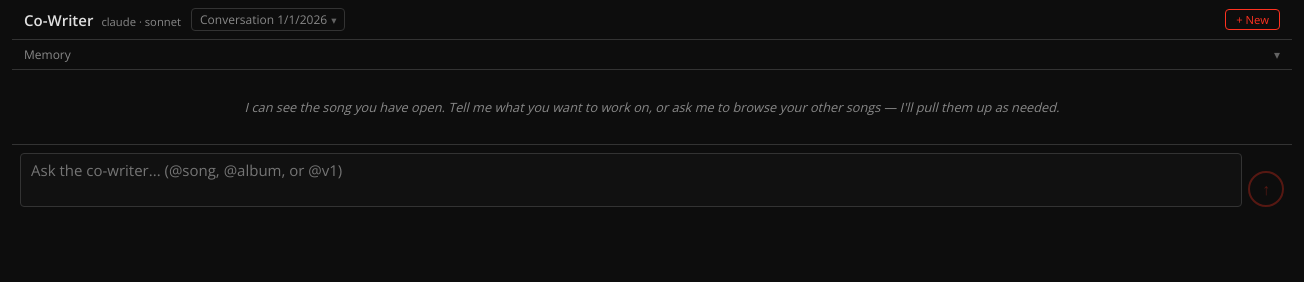
CoWriterPanel proposal target (#238) › shows the same target without the foreign warning styling when the proposal targets the open song
Type "darken it" into the text box with class "chat-input".
click(631, 180); type("darken it")  # box [20,153,1242,207]
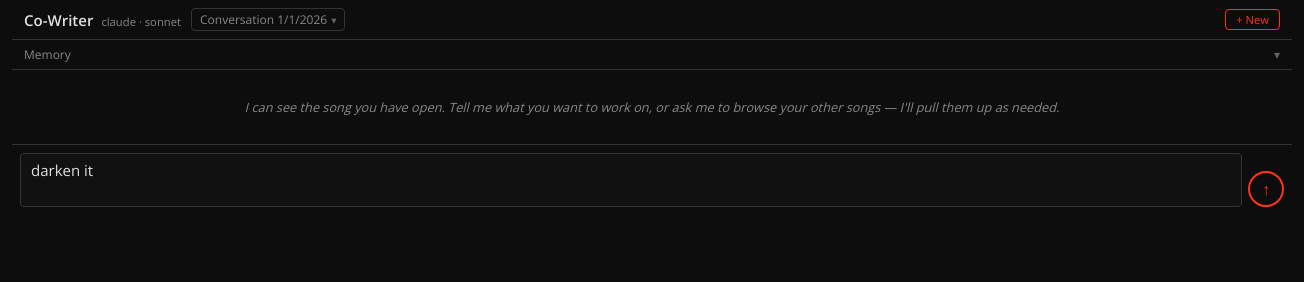
Click the button with class "send-btn".
click(1266, 189)  # box [1248,171,1284,207]
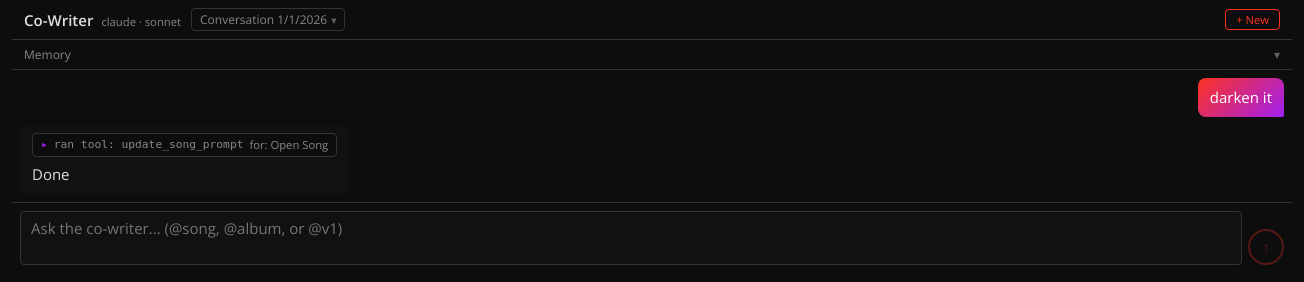
Now the element with class "tool-call" is shown, box [32,132,337,157]
Now the text with class "tool-target" reads "for: Open Song", box [249,136,328,152]
